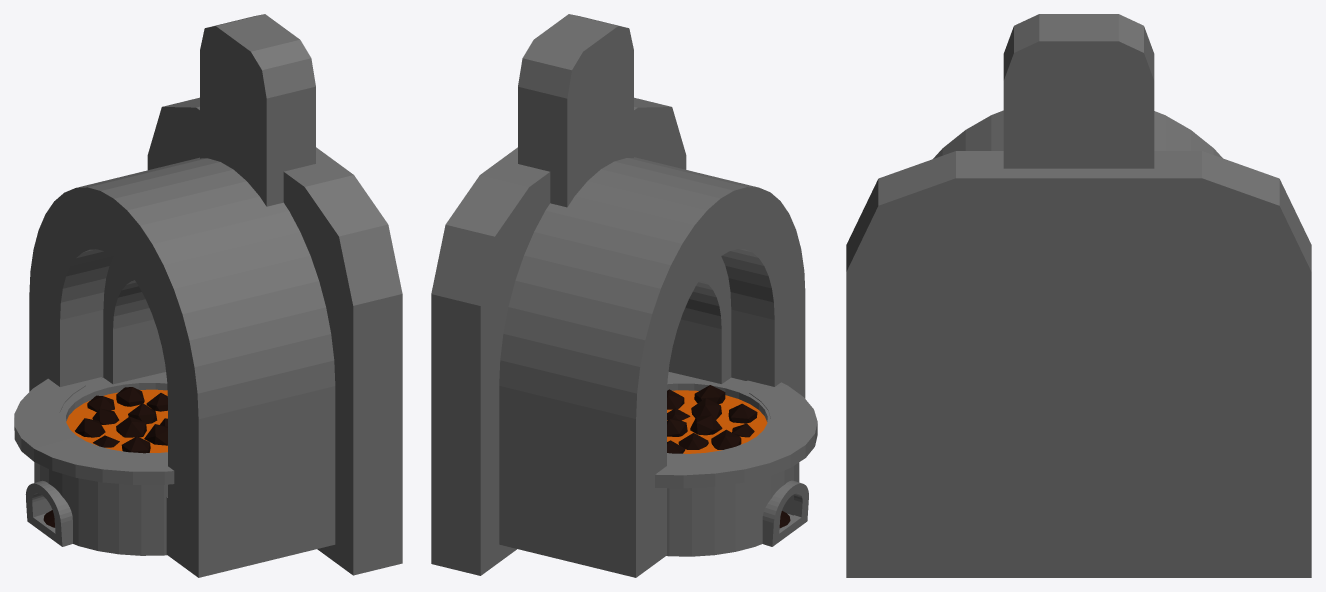
The model's file is furnace2.fbx.
The picture shows the model from 3 angles, left to right: view 1: azimuth 30°, elevation 25°; view 2: azimuth 150°, elevation 25°; view 3: azimuth 270°, elevation 25°; orthographic projection. The views are drawn at different scales.
Parts seen in each view (by area): view 1: Cube.001, Cube.004, Cube.005, Cylinder.002, Cylinder.003, Cube.002, Cube.003, Cylinder.001, Icosphere.001; view 2: Cube.001, Cube.004, Cube.005, Cylinder.002, Cylinder.003, Cube.002, Cube.003, Cylinder.001; view 3: Cube.004, Cube.005, Cube.001.
Boxes of the visible parts, bbox=[...] form: Cube.001: bbox=[29, 157, 335, 577]; Cube.004: bbox=[147, 97, 402, 575]; Cube.005: bbox=[200, 14, 315, 206]; Cylinder.002: bbox=[34, 372, 167, 555]; Cylinder.003: bbox=[14, 377, 174, 484]; Cube.002: bbox=[103, 256, 165, 384]; Cube.003: bbox=[25, 480, 72, 546]; Cylinder.001: bbox=[66, 389, 167, 452]; Icosphere.001: bbox=[116, 416, 146, 437]; Cube.001: bbox=[499, 157, 805, 577]; Cube.004: bbox=[431, 97, 686, 575]; Cube.005: bbox=[518, 14, 633, 207]; Cylinder.002: bbox=[666, 372, 799, 556]; Cylinder.003: bbox=[655, 380, 817, 488]; Cube.002: bbox=[668, 256, 731, 383]; Cube.003: bbox=[762, 480, 808, 546]; Cylinder.001: bbox=[667, 390, 767, 453]; Cube.004: bbox=[846, 151, 1311, 577]; Cube.005: bbox=[1003, 14, 1154, 168]; Cube.001: bbox=[933, 110, 1222, 158].
Bounding box in the file's own units: 663 × 1098 × 879.
